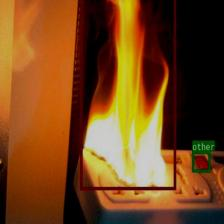fire: (79, 0, 175, 189)
